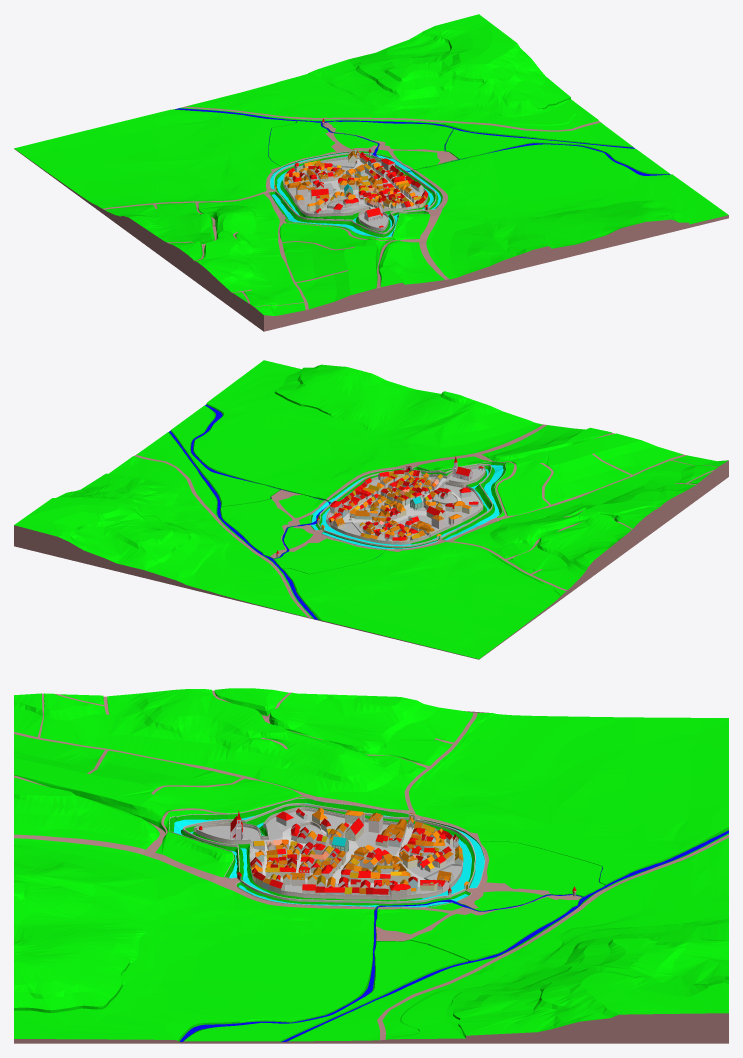
3 views of the same model, one above another, from view 1: azimuth 30°, elevation 25°; view 2: azimuth 150°, elevation 25°; view 3: azimuth 270°, elevation 25° (orthographic). The views are drawn at different scales.
Parts seen in each view (by area): view 1: 23TFxdxQnATwMxUze0pMMC, 0$kD52Dr98jR$fTTyNaGrW, 04$4$sNGv1MfvYu5O3lkcW, 1MZDt3eCH4agT$V6$DyXGm, 05hREyEmr2Q87RZGmjkknM, 1u1wSuG5LBVflXR68o21M3, 3aNQQZBBT5hfXaNIGJKBPv, 1AnQg8u1XDee4dF0oVJyMm, 3M_fKpVVf4Xhj8Nv7NQgQv, 2v2ZjusL51UANZvXAwaUQZ, 2N6mhTtLLFHRKlGWAHskyv, 2P0pLN8zn2bB4MKSqudRYH (+1 smaller); view 2: 23TFxdxQnATwMxUze0pMMC, 0$kD52Dr98jR$fTTyNaGrW, 04$4$sNGv1MfvYu5O3lkcW, 1MZDt3eCH4agT$V6$DyXGm, 05hREyEmr2Q87RZGmjkknM, 1AnQg8u1XDee4dF0oVJyMm, 1u1wSuG5LBVflXR68o21M3, 3aNQQZBBT5hfXaNIGJKBPv, 3M_fKpVVf4Xhj8Nv7NQgQv, 2P0pLN8zn2bB4MKSqudRYH, 2N6mhTtLLFHRKlGWAHskyv, 2jJwGJnTT2684lc5iJW91I (+3 smaller); view 3: 23TFxdxQnATwMxUze0pMMC, 0$kD52Dr98jR$fTTyNaGrW, 04$4$sNGv1MfvYu5O3lkcW, 05hREyEmr2Q87RZGmjkknM, 1MZDt3eCH4agT$V6$DyXGm, 1AnQg8u1XDee4dF0oVJyMm, 1u1wSuG5LBVflXR68o21M3, 3aNQQZBBT5hfXaNIGJKBPv, 3M_fKpVVf4Xhj8Nv7NQgQv, 2P0pLN8zn2bB4MKSqudRYH, 2jJwGJnTT2684lc5iJW91I, 2v2ZjusL51UANZvXAwaUQZ (+4 smaller).
Boxes of the visible parts, <box> form: 23TFxdxQnATwMxUze0pMMC: <box>105,144,728,315</box>; 0$kD52Dr98jR$fTTyNaGrW: <box>14,109,668,208</box>; 04$4$sNGv1MfvYu5O3lkcW: <box>179,14,632,146</box>; 1MZDt3eCH4agT$V6$DyXGm: <box>14,148,728,331</box>; 05hREyEmr2Q87RZGmjkknM: <box>103,106,600,309</box>; 1u1wSuG5LBVflXR68o21M3: <box>175,108,670,175</box>; 3aNQQZBBT5hfXaNIGJKBPv: <box>173,108,669,174</box>; 1AnQg8u1XDee4dF0oVJyMm: <box>284,159,423,227</box>; 3M_fKpVVf4Xhj8Nv7NQgQv: <box>269,151,442,237</box>; 2v2ZjusL51UANZvXAwaUQZ: <box>274,154,435,232</box>; 2N6mhTtLLFHRKlGWAHskyv: <box>270,152,441,237</box>; 2P0pLN8zn2bB4MKSqudRYH: <box>283,156,427,231</box>; 23TFxdxQnATwMxUze0pMMC: <box>194,360,728,589</box>; 0$kD52Dr98jR$fTTyNaGrW: <box>171,405,565,658</box>; 04$4$sNGv1MfvYu5O3lkcW: <box>14,432,313,618</box>; 1MZDt3eCH4agT$V6$DyXGm: <box>14,460,728,659</box>; 05hREyEmr2Q87RZGmjkknM: <box>134,424,718,618</box>; 1AnQg8u1XDee4dF0oVJyMm: <box>327,468,484,541</box>; 1u1wSuG5LBVflXR68o21M3: <box>169,404,380,619</box>; 3aNQQZBBT5hfXaNIGJKBPv: <box>168,403,385,620</box>; 3M_fKpVVf4Xhj8Nv7NQgQv: <box>310,461,505,548</box>; 2P0pLN8zn2bB4MKSqudRYH: <box>326,465,485,544</box>; 2N6mhTtLLFHRKlGWAHskyv: <box>311,465,503,548</box>; 2jJwGJnTT2684lc5iJW91I: <box>318,464,492,547</box>; 23TFxdxQnATwMxUze0pMMC: <box>14,688,473,1040</box>; 0$kD52Dr98jR$fTTyNaGrW: <box>184,712,728,1041</box>; 04$4$sNGv1MfvYu5O3lkcW: <box>289,833,728,1041</box>; 05hREyEmr2Q87RZGmjkknM: <box>14,690,728,1040</box>; 1MZDt3eCH4agT$V6$DyXGm: <box>14,711,728,1043</box>; 1AnQg8u1XDee4dF0oVJyMm: <box>198,810,461,895</box>; 1u1wSuG5LBVflXR68o21M3: <box>179,830,728,1041</box>; 3aNQQZBBT5hfXaNIGJKBPv: <box>178,827,728,1041</box>; 3M_fKpVVf4Xhj8Nv7NQgQv: <box>169,798,484,906</box>; 2P0pLN8zn2bB4MKSqudRYH: <box>193,806,462,899</box>; 2jJwGJnTT2684lc5iJW91I: <box>183,803,475,903</box>; 2v2ZjusL51UANZvXAwaUQZ: <box>185,805,474,901</box>.
Bounding box in the file's own units: 988 × 62.73 × 919.
